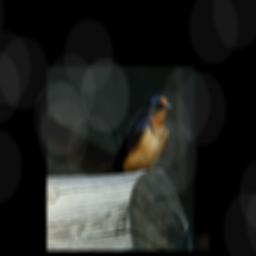Swallow: (79, 95, 173, 175)
